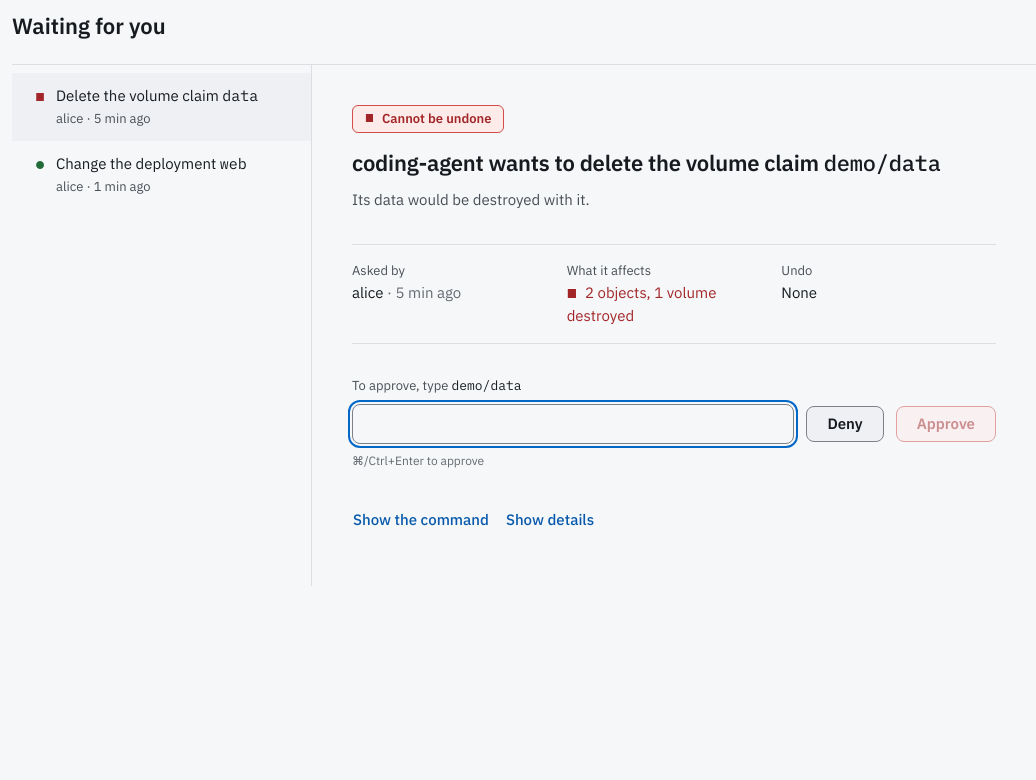
Test: Waiting › wide screens show the list and the chosen request
Check: the element with class "waiting-sentence" reads "Delete the volume claim data", box left=56, top=84, right=258, bottom=107
Check: the text "alice · 5 min ago" is shown, box left=56, top=110, right=151, bottom=127
Click the option "● Change the deployment web alice · 1 min ago".
click(141, 174)  # box left=35, top=152, right=247, bottom=195
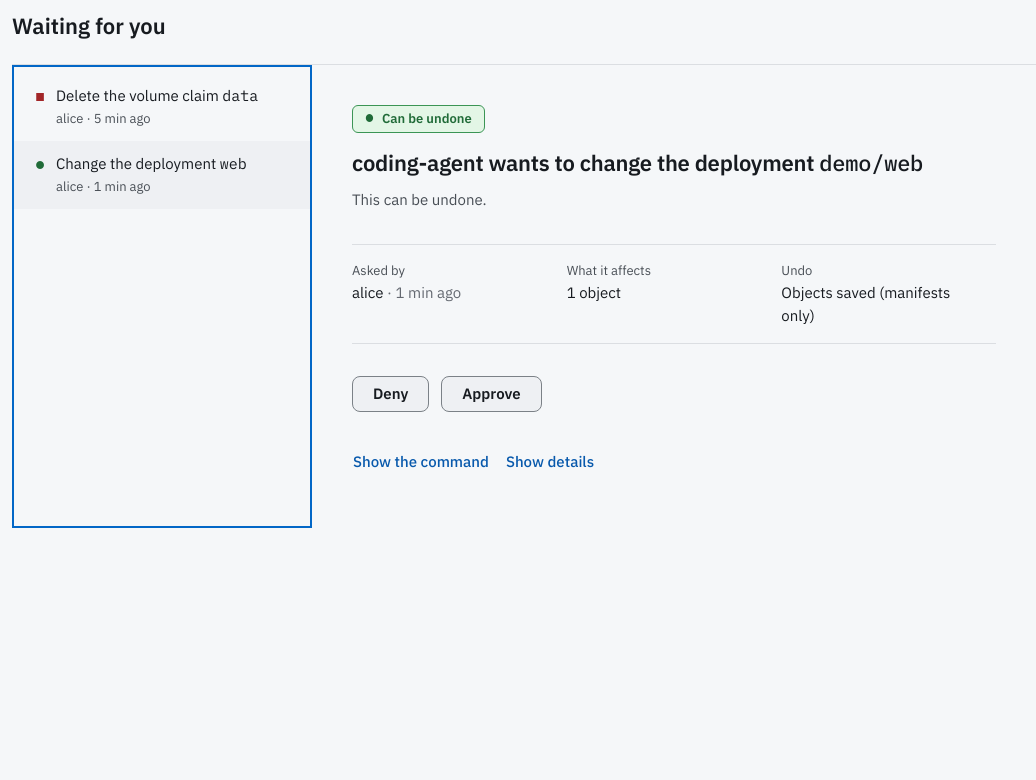
Check: the heading "coding-agent wants to change the deployment demo/web" is shown, box left=352, top=149, right=996, bottom=177
Check: the text "Objects saved (manifests only)" is shown, box left=781, top=283, right=950, bottom=325
